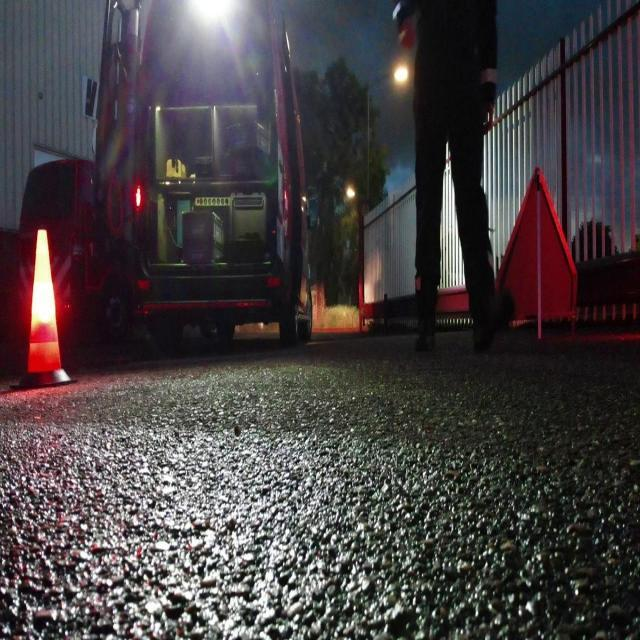Smoke: (282, 0, 640, 172)
